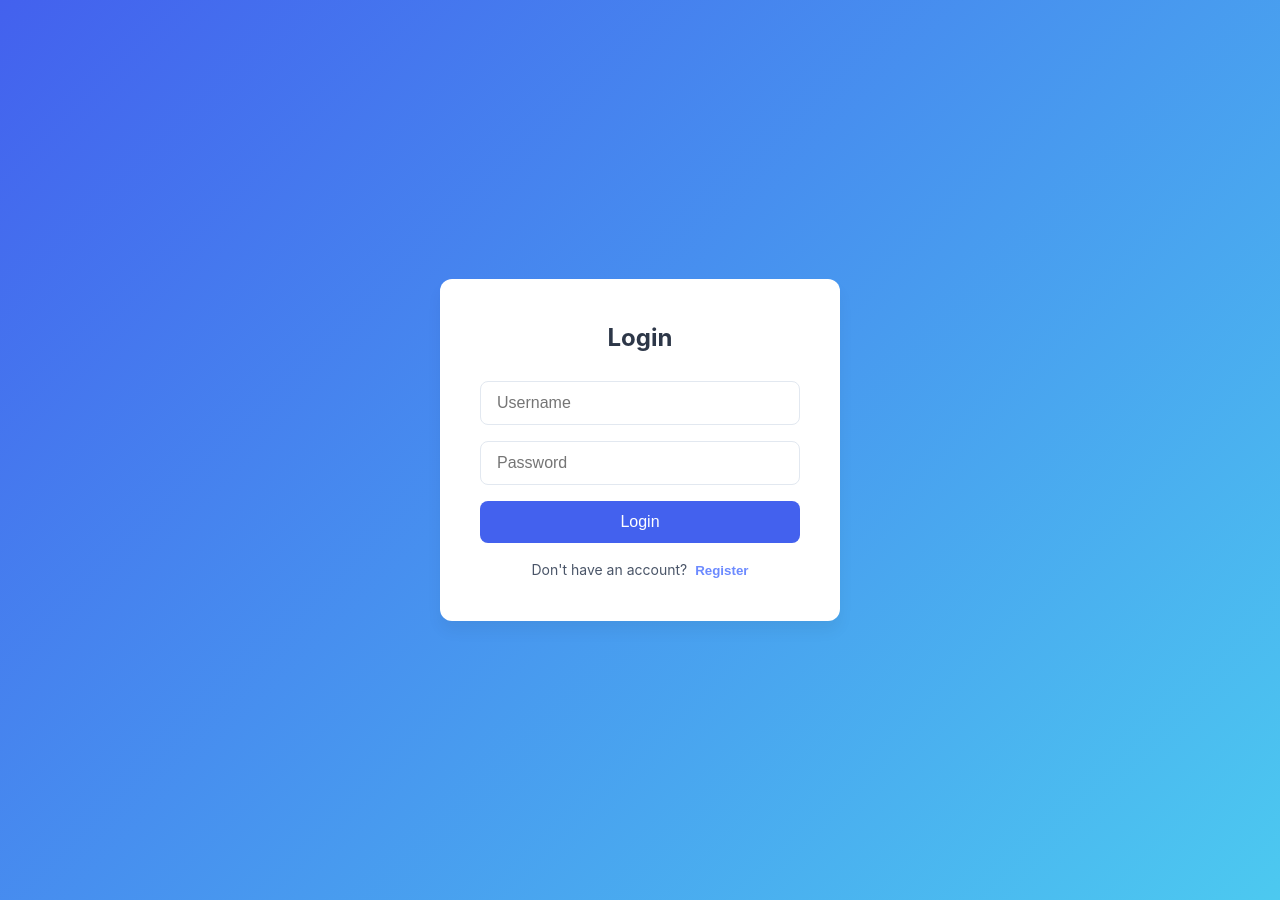
AuthPage Component › switches to register mode and shows extra fields
Click the button "Register": x=722, y=570 [695,563,748,578]
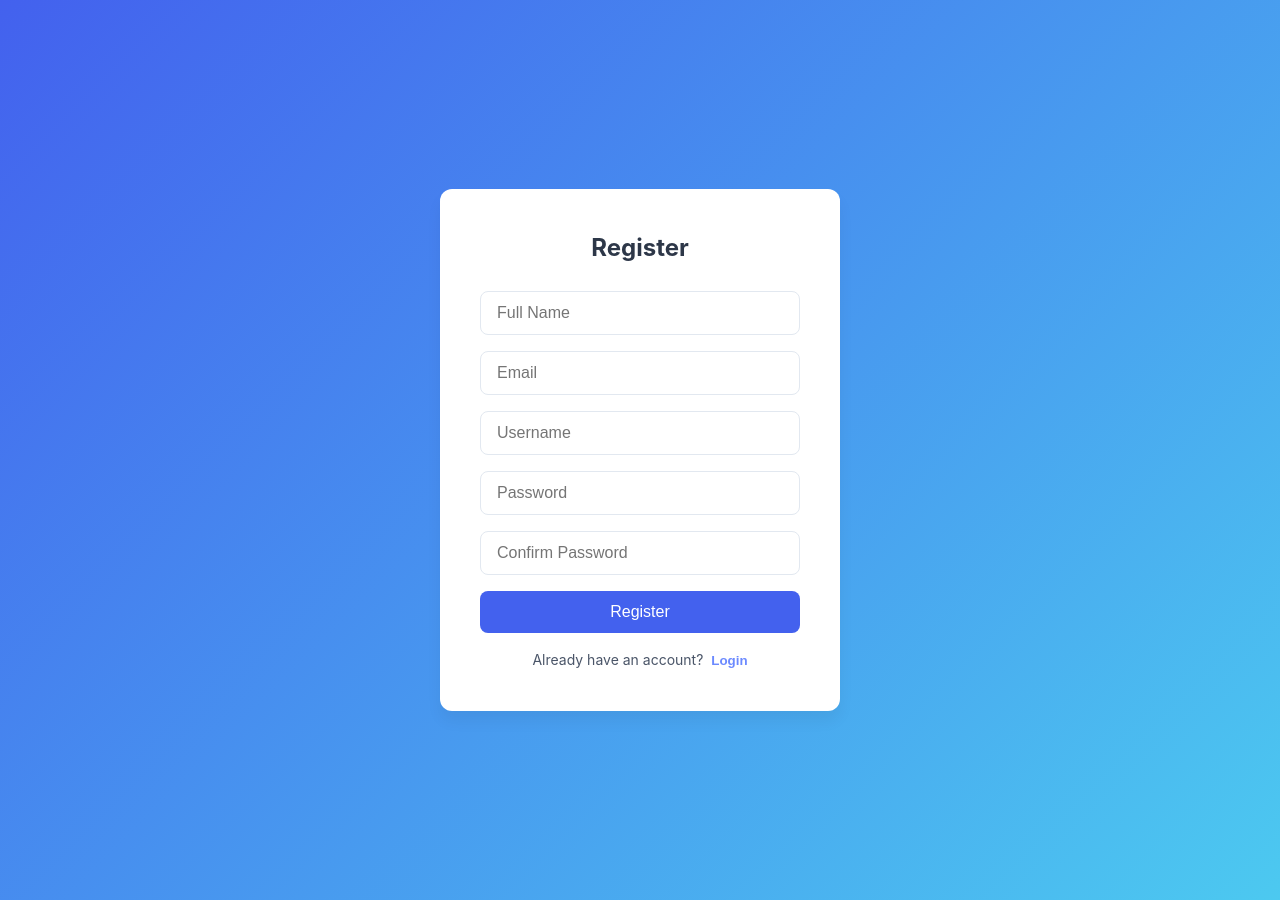
Now the field with placeholder "Full Name" is shown, box [480,291,800,335]
Now the field with placeholder "Email" is shown, box [480,351,800,395]
Now the password field with placeholder "Confirm Password" is shown, box [480,531,800,575]
